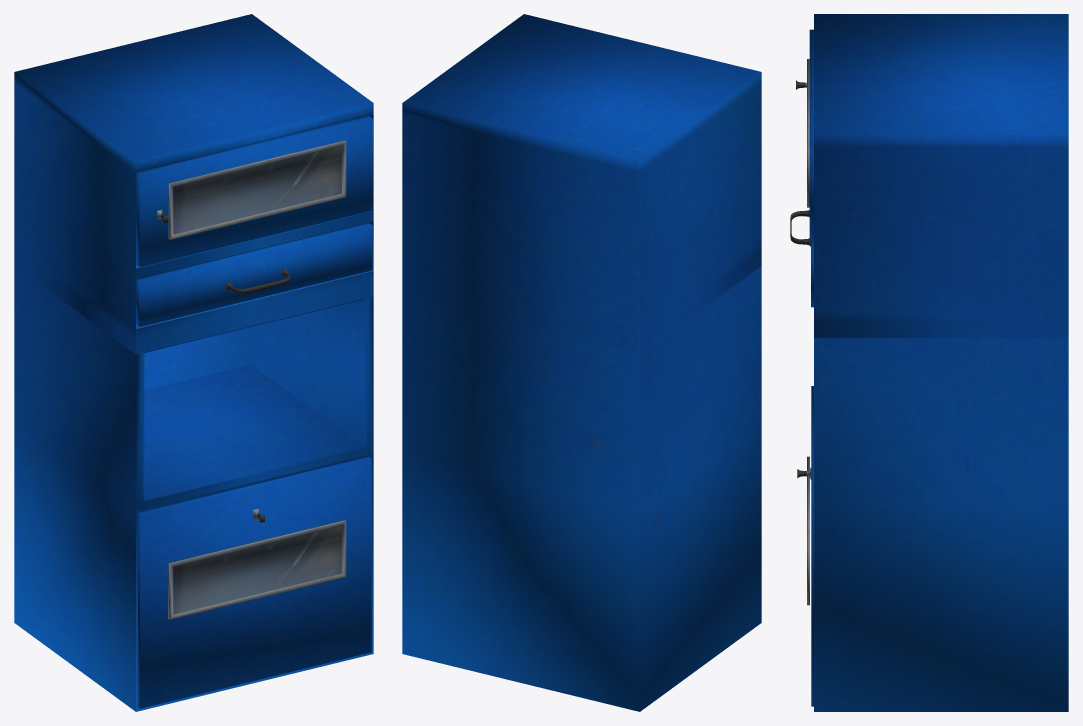
File: barbertool_cabinet.obj
The picture shows the model from 3 angles, left to right: view 1: azimuth 30°, elevation 25°; view 2: azimuth 150°, elevation 25°; view 3: azimuth 270°, elevation 25°; orthographic projection. The views are drawn at different scales.
Visible parts, largest first — view 1: Default; view 2: Default; view 3: Default.
Part boxes in pixels (<box>): Default: <box>14,14,373,711</box>; Default: <box>402,14,761,711</box>; Default: <box>805,14,1068,711</box>.
Size of the model in its own units: 3.1 by 6.86 by 3.
